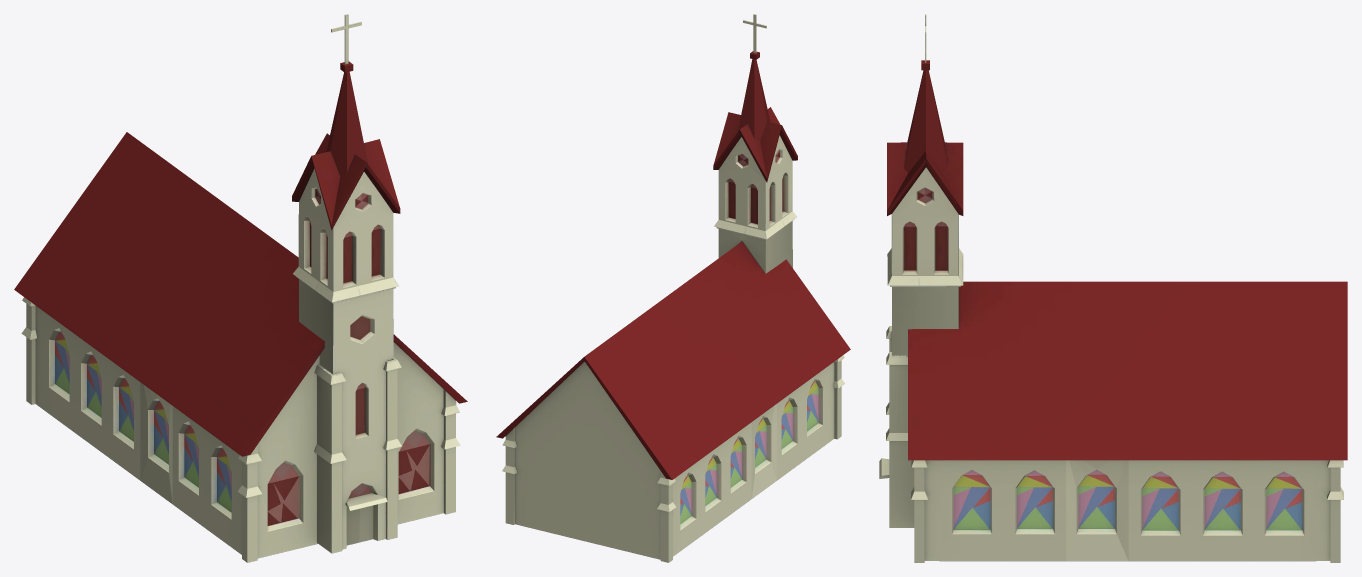
File: church.glb
3 views of the same model, side by side, from view 1: azimuth 30°, elevation 25°; view 2: azimuth 150°, elevation 25°; view 3: azimuth 270°, elevation 25° (orthographic). The views are drawn at different scales.
Visible parts, largest first — view 1: Church_mesh; view 2: Church_mesh; view 3: Church_mesh.
Part boxes in pixels (<box>): Church_mesh: <box>14,14,467,562</box>; Church_mesh: <box>496,14,850,562</box>; Church_mesh: <box>879,14,1347,562</box>.
Size of the model in its own units: 4.1 by 9 by 7.65.
Materials: 1 (1 with a texture image).
